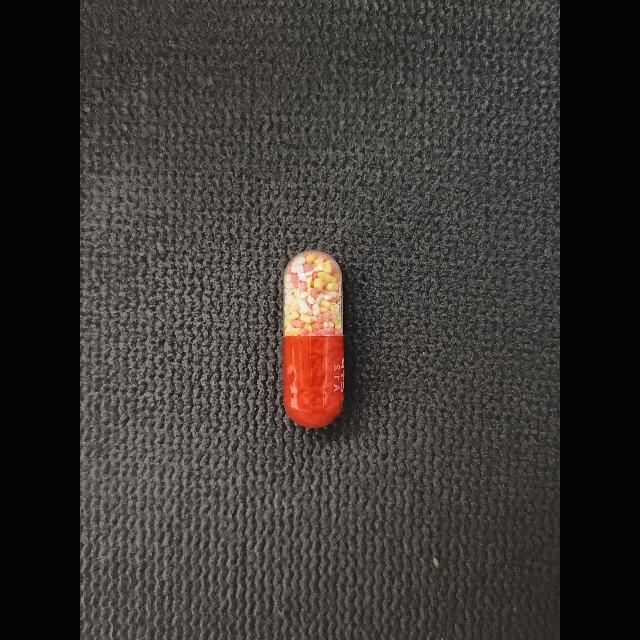Intact Capsule: (283, 250, 345, 428)
